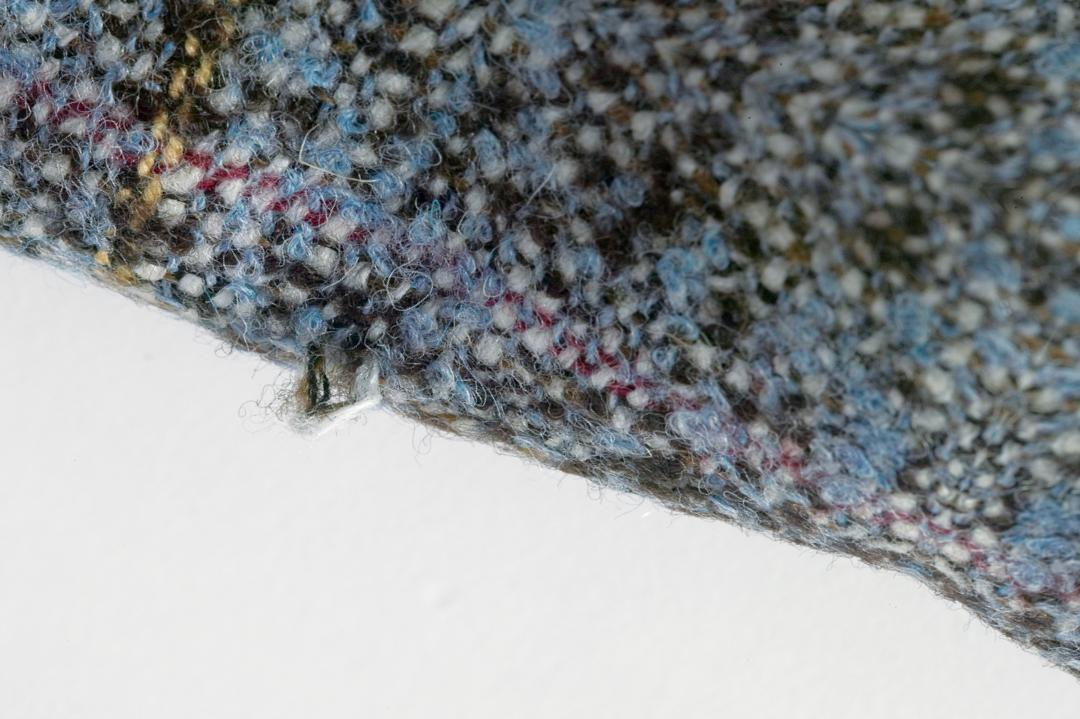snag: (271, 321, 388, 448)
